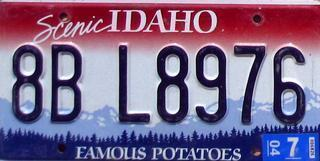placa de veiculo: (5, 2, 320, 156)
